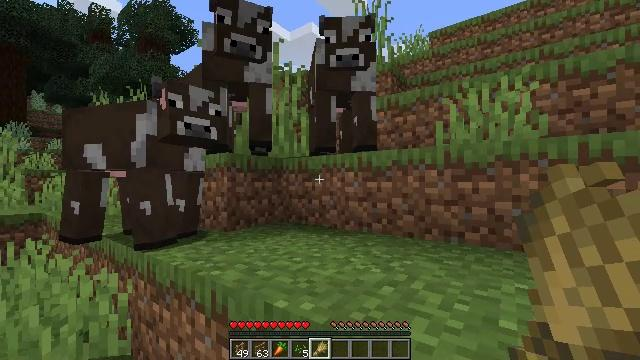cow: (63, 83, 220, 244), (202, 0, 273, 156), (308, 15, 379, 157)
